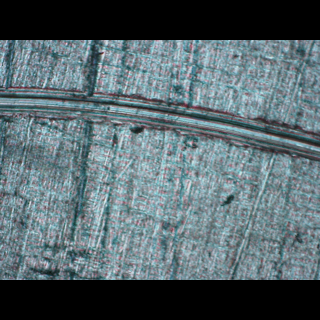d: (0, 83, 319, 165)
